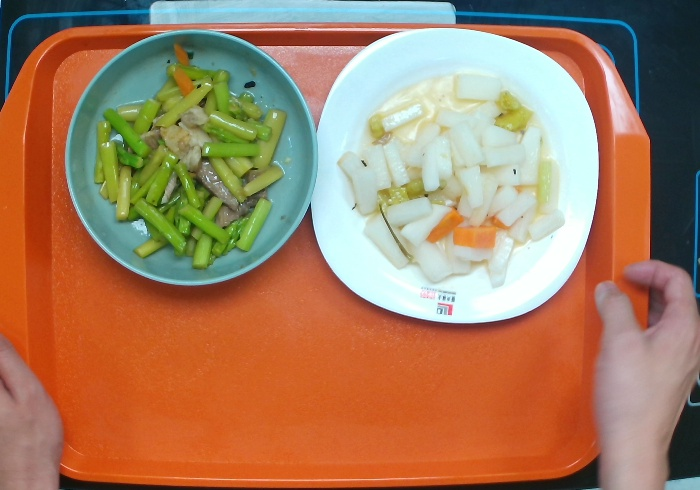ZNLD-Qing_Hua_Yuan_Wan: (67, 20, 323, 286)
ZNLD-Yuan_Jiao_Pan: (309, 24, 601, 328)
